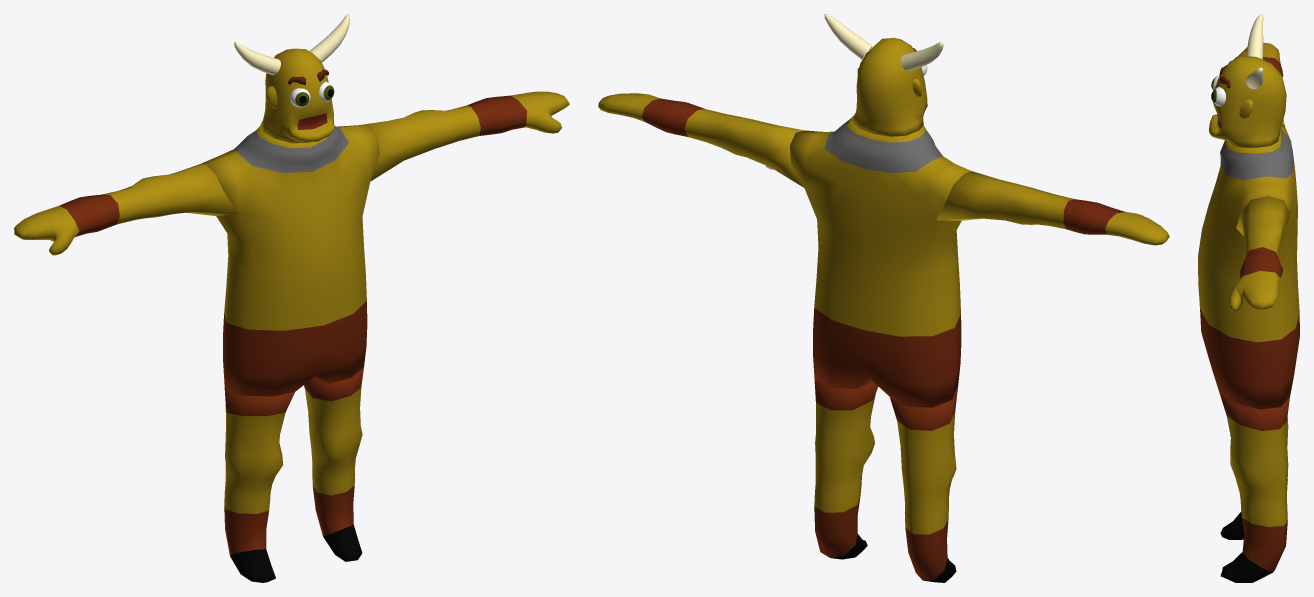
The model's file is Giant_Parts.fbx.
3 views of the same model, side by side, from view 1: azimuth 30°, elevation 25°; view 2: azimuth 150°, elevation 25°; view 3: azimuth 270°, elevation 25° (orthographic). The views are drawn at different scales.
Parts seen in each view (by area): view 1: giant_Rig.parts, giant_Rig.parts.005, giant_Rig.parts.003, giant_Rig.parts.004, giant_Rig.parts.002, giant_Rig.parts.001; view 2: giant_Rig.parts, giant_Rig.parts.004, giant_Rig.parts.005, giant_Rig.parts.003, giant_Rig.parts.001, giant_Rig.parts.002; view 3: giant_Rig.parts, giant_Rig.parts.004, giant_Rig.parts.001, giant_Rig.parts.002, giant_Rig.parts.005, giant_Rig.parts.003.
Boxes of the visible parts, x1=… form: giant_Rig.parts: x1=201, y1=124, x2=379, y2=396; giant_Rig.parts.005: x1=224, y1=383, x2=294, y2=582; giant_Rig.parts.003: x1=14, y1=164, x2=238, y2=255; giant_Rig.parts.004: x1=304, y1=367, x2=363, y2=561; giant_Rig.parts.002: x1=361, y1=91, x2=569, y2=181; giant_Rig.parts.001: x1=234, y1=14, x2=349, y2=143; giant_Rig.parts: x1=766, y1=115, x2=971, y2=407; giant_Rig.parts.004: x1=814, y1=379, x2=878, y2=559; giant_Rig.parts.005: x1=890, y1=387, x2=957, y2=582; giant_Rig.parts.003: x1=936, y1=171, x2=1169, y2=245; giant_Rig.parts.001: x1=824, y1=14, x2=943, y2=136; giant_Rig.parts.002: x1=598, y1=93, x2=804, y2=187; giant_Rig.parts: x1=1198, y1=124, x2=1299, y2=409; giant_Rig.parts.004: x1=1220, y1=394, x2=1289, y2=582; giant_Rig.parts.001: x1=1209, y1=14, x2=1286, y2=147; giant_Rig.parts.002: x1=1229, y1=196, x2=1289, y2=311; giant_Rig.parts.005: x1=1220, y1=417, x2=1288, y2=539; giant_Rig.parts.003: x1=1233, y1=42, x2=1284, y2=126.
Size of the model in its own units: 309 by 284 by 50.67.
Materials: 1 (1 with a texture image).
